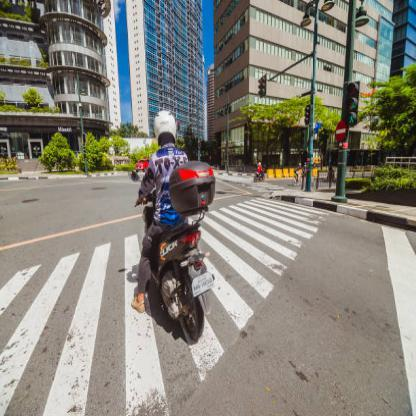Motorcycle: (128, 155, 216, 343)
